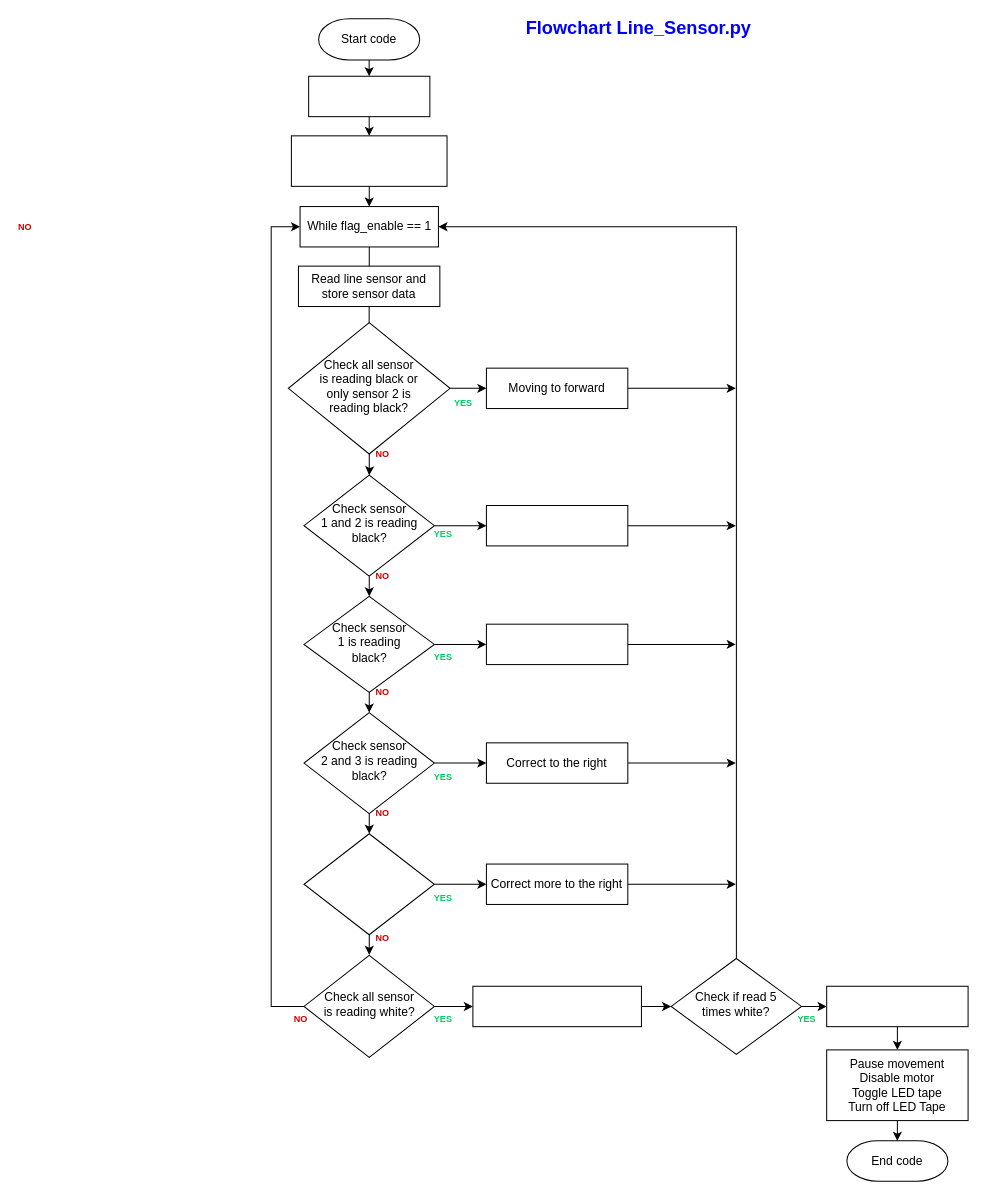
Image size: 986x1199. Some labels were removed from this diagram. The shapes that lost their labels are listed below. From the top down, each one's box as (x1, y1, x2, y2) in pixels, then its label:
(308, 75, 430, 117): Init Variables Init Serial
(290, 135, 447, 186): Turn On LED Tape Set parameter and enable mode continuous
(485, 504, 628, 546): Correct to the left
(485, 623, 628, 665): Correct more to the left
(303, 833, 434, 935): Check sensor 3 is reading black?
(472, 985, 641, 1027): Correct to the back Increase count reading white
(826, 985, 968, 1027): Clear flag_enable
